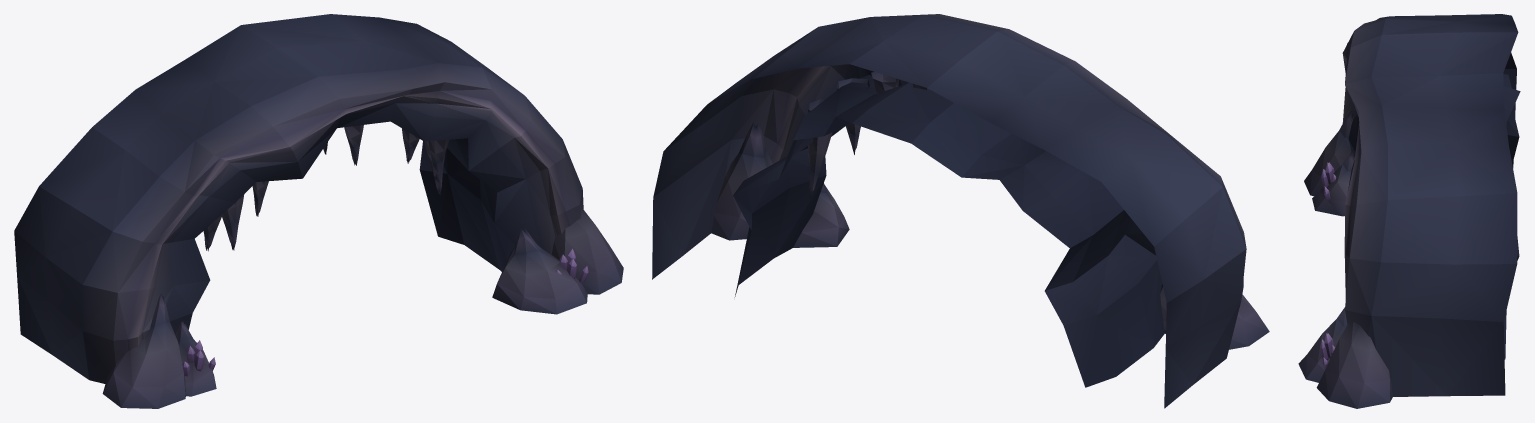
Rendered from grotto-vault.glb.
3 renders of one model, left to right at view 1: azimuth 30°, elevation 25°; view 2: azimuth 150°, elevation 25°; view 3: azimuth 270°, elevation 25°, orthographic. The views are drawn at different scales.
Parts seen in each view (by area): view 1: grotto-vault; view 2: grotto-vault; view 3: grotto-vault.
Boxes of the visible parts, bbox=[...] form: grotto-vault: bbox=[14, 14, 623, 408]; grotto-vault: bbox=[652, 14, 1269, 408]; grotto-vault: bbox=[1298, 14, 1520, 408].
Bounding box in the file's own units: 33.64 × 15.45 × 12.95.
